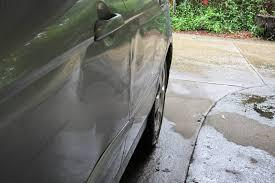doorouter-dent: (56, 14, 134, 182)
